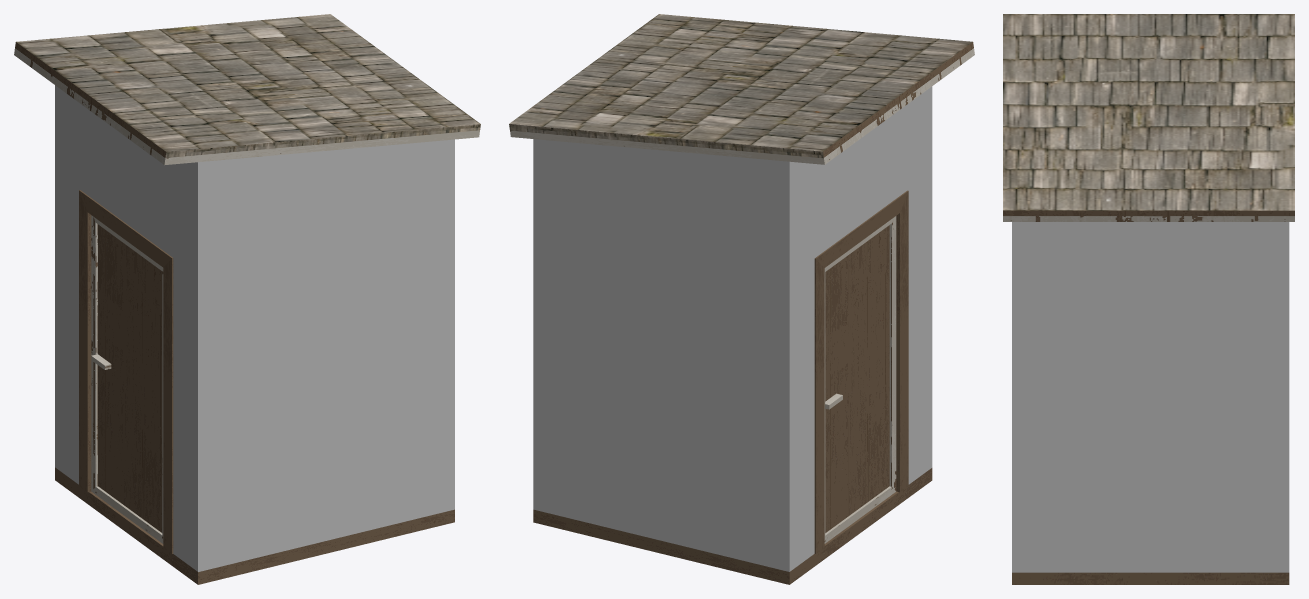
Rendered from FarmTualete01.fbx.
3 views of the same model, side by side, from view 1: azimuth 30°, elevation 25°; view 2: azimuth 150°, elevation 25°; view 3: azimuth 270°, elevation 25° (orthographic). The views are drawn at different scales.
Visible parts, largest first — view 1: Tuallete, Roof, FarmDoor1.001, Floor; view 2: Tuallete, Roof, FarmDoor1.001, Floor; view 3: Tuallete, Roof, Floor.
Part boxes in pixels (left/top/right/bottom): Tuallete: left=55, top=85, right=454, bottom=571; Roof: left=14, top=14, right=480, bottom=165; FarmDoor1.001: left=91, top=215, right=163, bottom=543; Floor: left=55, top=467, right=454, bottom=584; Tuallete: left=533, top=86, right=932, bottom=571; Roof: left=509, top=14, right=974, bottom=164; FarmDoor1.001: left=824, top=216, right=896, bottom=543; Floor: left=533, top=468, right=932, bottom=584; Tuallete: left=1012, top=222, right=1289, bottom=572; Roof: left=1003, top=14, right=1294, bottom=221; Floor: left=1012, top=572, right=1289, bottom=584.
Size of the model in its own units: 256 by 344 by 210.
